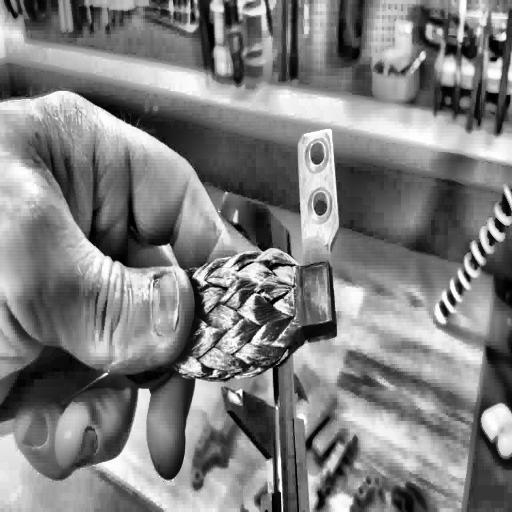busbar: (0, 115, 347, 421)
